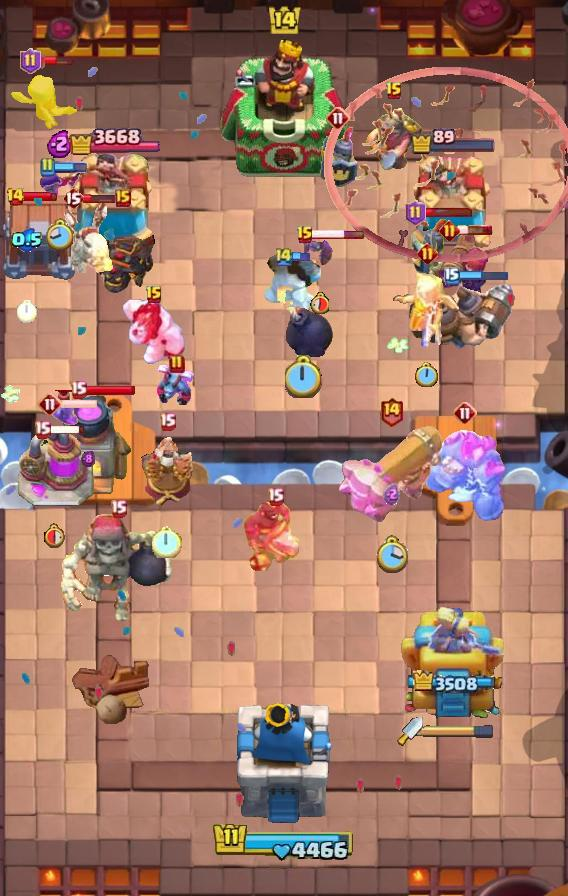archer-evolution: (88, 210, 158, 296)
baby-dragon: (274, 286, 334, 358)
bandit: (363, 100, 425, 172)
bar: (399, 607, 507, 731)
barbarian: (49, 402, 81, 428)
barbarian-barrel: (303, 237, 335, 267)
bomb: (0, 195, 78, 281)
cannoneer-tower: (423, 429, 507, 521)
clock: (212, 821, 356, 863)
electro-giant: (59, 513, 177, 625)
electro-spirit: (11, 228, 43, 252), (47, 129, 73, 158), (383, 483, 401, 505), (81, 450, 95, 468)
elixir: (285, 355, 323, 398), (375, 535, 409, 575), (152, 526, 182, 559), (46, 219, 75, 253), (415, 363, 439, 390), (45, 523, 68, 548), (17, 300, 37, 323), (310, 292, 329, 314)
elixir-collector: (136, 432, 198, 510)
emote: (457, 270, 509, 283), (84, 384, 136, 396), (311, 229, 365, 240), (423, 206, 473, 217), (61, 398, 99, 410), (52, 161, 88, 173), (22, 191, 58, 203), (457, 224, 493, 236), (82, 192, 117, 204), (49, 425, 86, 436), (38, 54, 74, 65), (292, 250, 312, 261)
freeze: (242, 500, 308, 576)
furnace: (336, 425, 446, 531)
goblin: (34, 166, 86, 208)
hunter: (43, 390, 133, 498)
king-tower: (218, 37, 350, 181), (235, 703, 333, 826)
king-tower-bar: (423, 724, 495, 738)
mega-minion: (434, 231, 490, 303)
mini-pekka: (58, 201, 116, 273)
pekka: (16, 426, 94, 508)
poison: (385, 267, 469, 351), (1, 63, 87, 139)
princess: (316, 125, 360, 189), (409, 217, 449, 281)
queen-tower: (66, 154, 162, 256), (407, 156, 499, 256)
rage: (262, 252, 328, 322), (121, 298, 187, 366)
royal-delivery: (156, 365, 198, 405)
selected: (68, 124, 159, 160), (411, 128, 498, 155), (411, 670, 495, 694)
skeleton-barrel: (324, 65, 568, 263)
text: (380, 396, 405, 427), (326, 106, 350, 130), (38, 392, 62, 416), (453, 401, 477, 425), (20, 48, 41, 74), (405, 200, 426, 226), (62, 186, 84, 210), (417, 243, 438, 265), (439, 219, 460, 240), (274, 245, 294, 266), (6, 187, 26, 207), (385, 81, 403, 101), (296, 225, 314, 245), (145, 285, 163, 305), (69, 381, 87, 399), (34, 421, 51, 440), (267, 486, 284, 505), (109, 498, 126, 517), (39, 157, 55, 177), (169, 354, 185, 374), (160, 413, 177, 431), (115, 189, 131, 207), (444, 267, 460, 285)
wizard: (405, 281, 517, 351)
